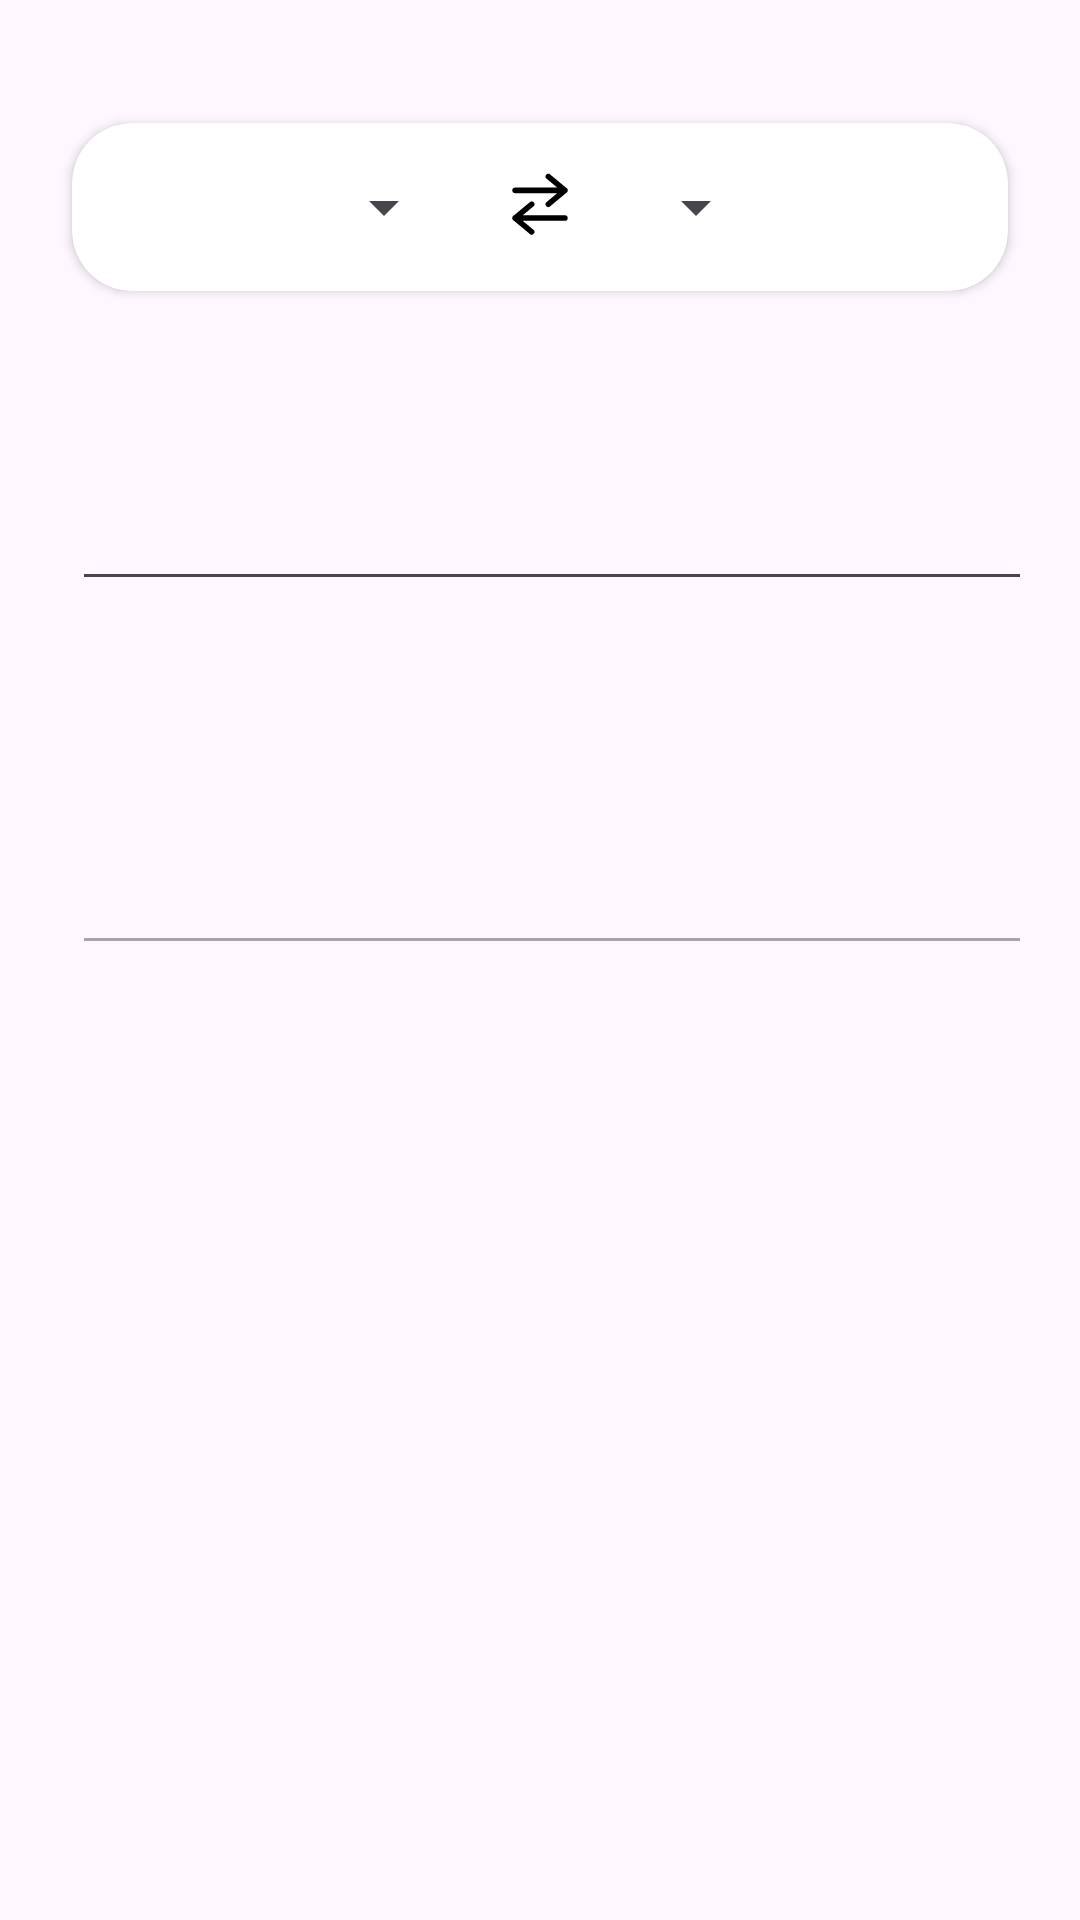

Icons on this 1080*1920 Android screen, each with its box as (x1, y1, x2, y2):
arrow change hor: (512, 173, 568, 235)
